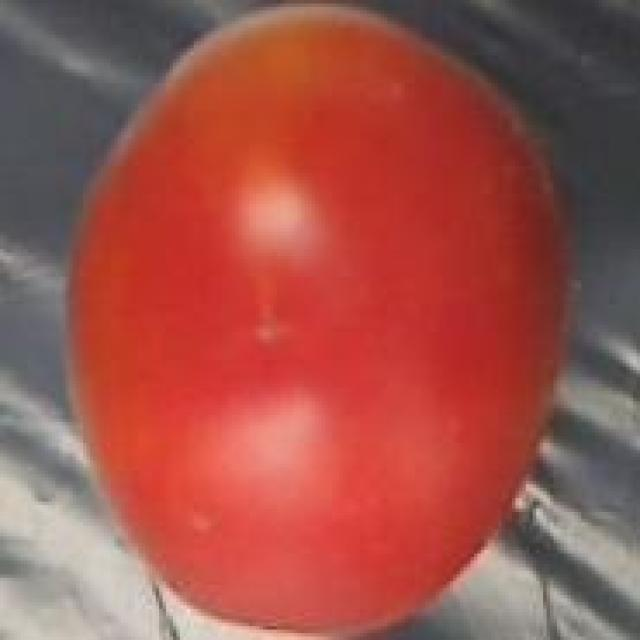overripe tomato: (59, 0, 581, 640)
